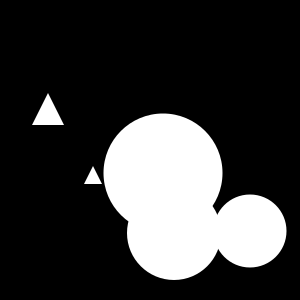rectangle: (103, 113, 222, 232), (127, 186, 221, 280), (214, 194, 286, 268)
triangle: (32, 93, 64, 125), (84, 166, 102, 184)
